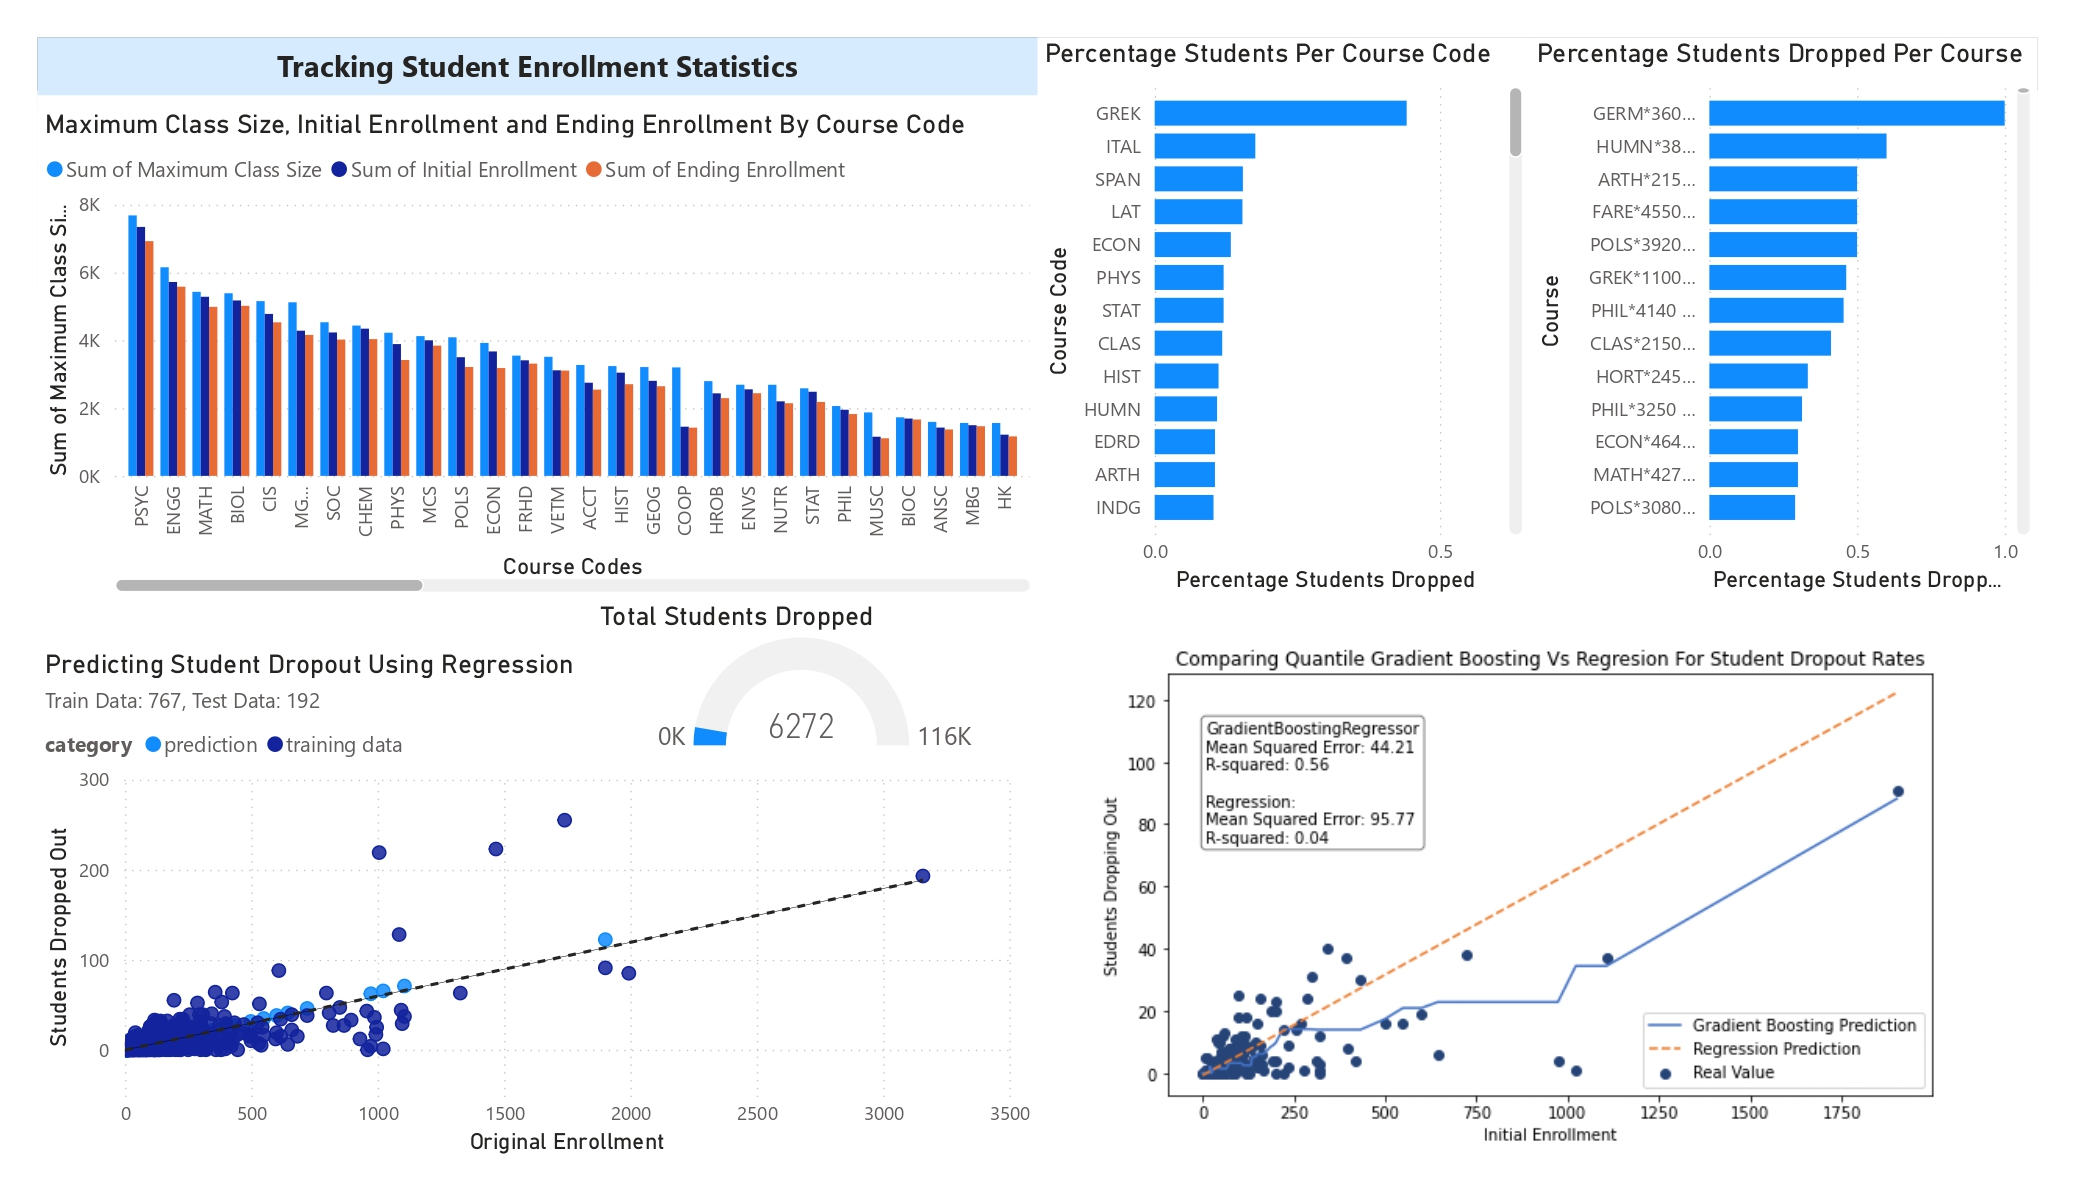

This screenshot's page, from the dashboard's own definition file:
{"tool":"powerbi","page":{"name":"Page 1","canvas":[1280,720],"ordinal":0},"visuals":[{"type":"scatterChart","title":"Predicting Student Dropout Using Regression","fields":{"X":["Sheet1.x_test"],"Y":["Sheet1.y_pred"],"Series":["Sheet1.category"]},"box":[0,391,640,329],"z":0},{"type":"clusteredColumnChart","title":"Maximum Class Size, Initial Enrollment and Ending Enrollment By Course Code","fields":{"Y":["Sum(generalCourseInformation.Maximum Class Size)","Sum(generalCourseInformation.Initial Enrollment)","Sum(generalCourseInformation.Ending Enrollment)"],"Category":["generalCourseInformation.Column1"]},"box":[0,44.7,640.4,314.9],"z":1000},{"type":"barChart","title":"Percentage Students Per Course Code","fields":{"Category":["generalCourseInformation.Column1"],"Y":["Sum(generalCourseInformation.Percentage Students Dropped)"]},"box":[640,0,315,360],"z":2000},{"type":"gauge","title":"Total Students Dropped","fields":{"Y":["Sum(generalCourseInformation.Students Dropped)"],"MaxValue":["Sum(generalCourseInformation.Initial Enrollment)"]},"box":[355.3,359.6,285.1,103.2],"z":3000},{"type":"barChart","title":"Percentage Students Dropped Per Course","fields":{"Category":["specificCourseInformation.Column1"],"Y":["Sum(specificCourseInformation.Percentage Students Dropped)"]},"box":[955,0,325,360],"z":4000},{"type":"textbox","box":[0,0,640.4,37.2],"z":5000},{"type":"pythonVisual","fields":{"Values":["Sheet1 (2).x_test","Sheet1 (2).y_pred_q","Sheet1 (2).y_pred_r","Sheet1 (2).y_test"]},"box":[639.6,360,640.8,360],"z":5001}]}

Visuals, with their boxes in screenshot pixels (x1, y1, x2, y2):
"Predicting Student Dropout Using Regression" scatterChart: <bbox>38, 648, 1038, 1162</bbox>
"Maximum Class Size, Initial Enrollment and Ending Enrollment By Course Code" clusteredColumnChart: <bbox>38, 107, 1038, 599</bbox>
"Percentage Students Per Course Code" barChart: <bbox>1038, 38, 1530, 600</bbox>
"Total Students Dropped" gauge: <bbox>593, 599, 1038, 761</bbox>
"Percentage Students Dropped Per Course" barChart: <bbox>1530, 38, 2038, 600</bbox>
textbox: <bbox>38, 38, 1038, 96</bbox>
pythonVisual - Sheet1 (2).x_test x Sheet1 (2).y_pred_q: <bbox>1037, 600, 2038, 1162</bbox>
